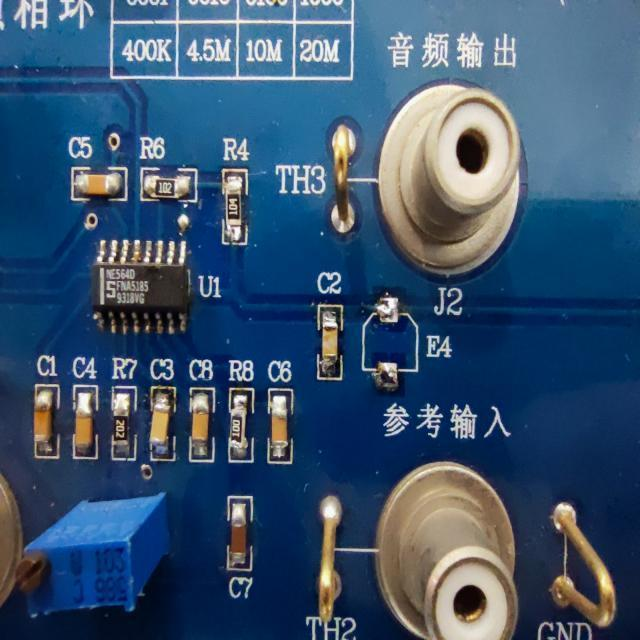Missing component: (351, 279, 463, 395)
